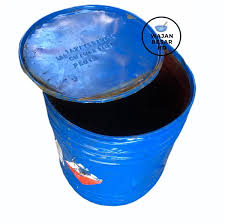metal: (18, 3, 198, 208)
